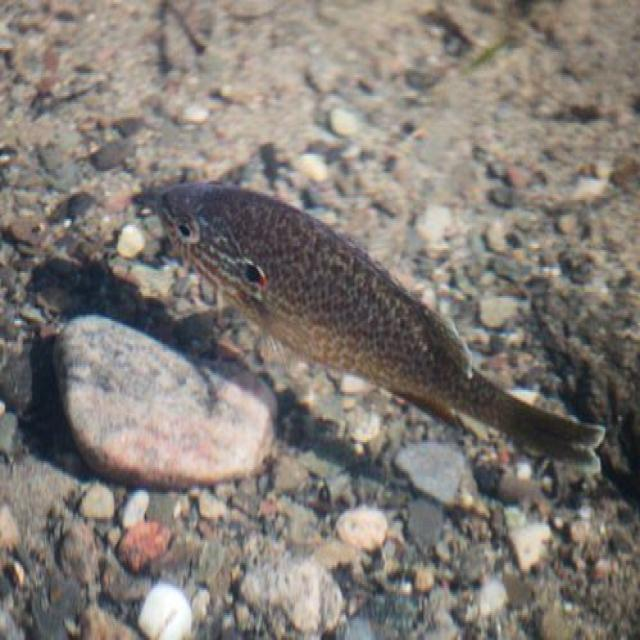Gunes Levregi: (153, 176, 619, 484)
